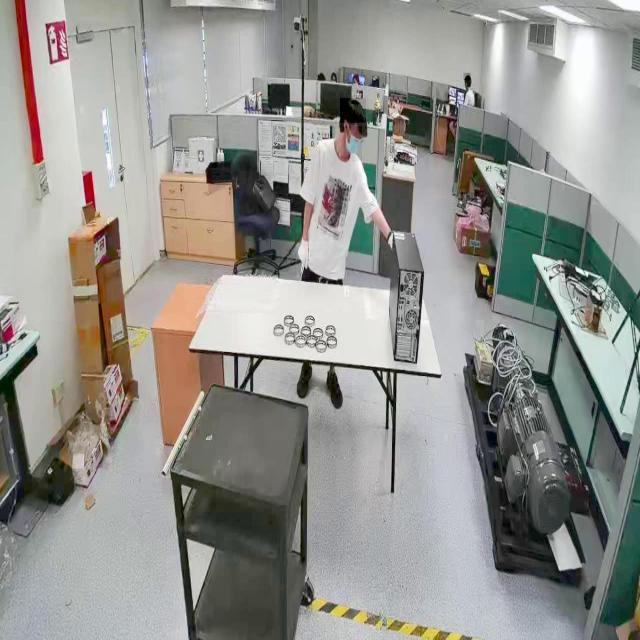face_mask: (344, 126, 362, 162)
hand_glove: (296, 236, 310, 278)
head_nohelmet: (340, 98, 366, 124), (463, 73, 471, 81)
person: (296, 111, 396, 284)
shoes: (322, 366, 345, 413), (294, 362, 318, 402)
